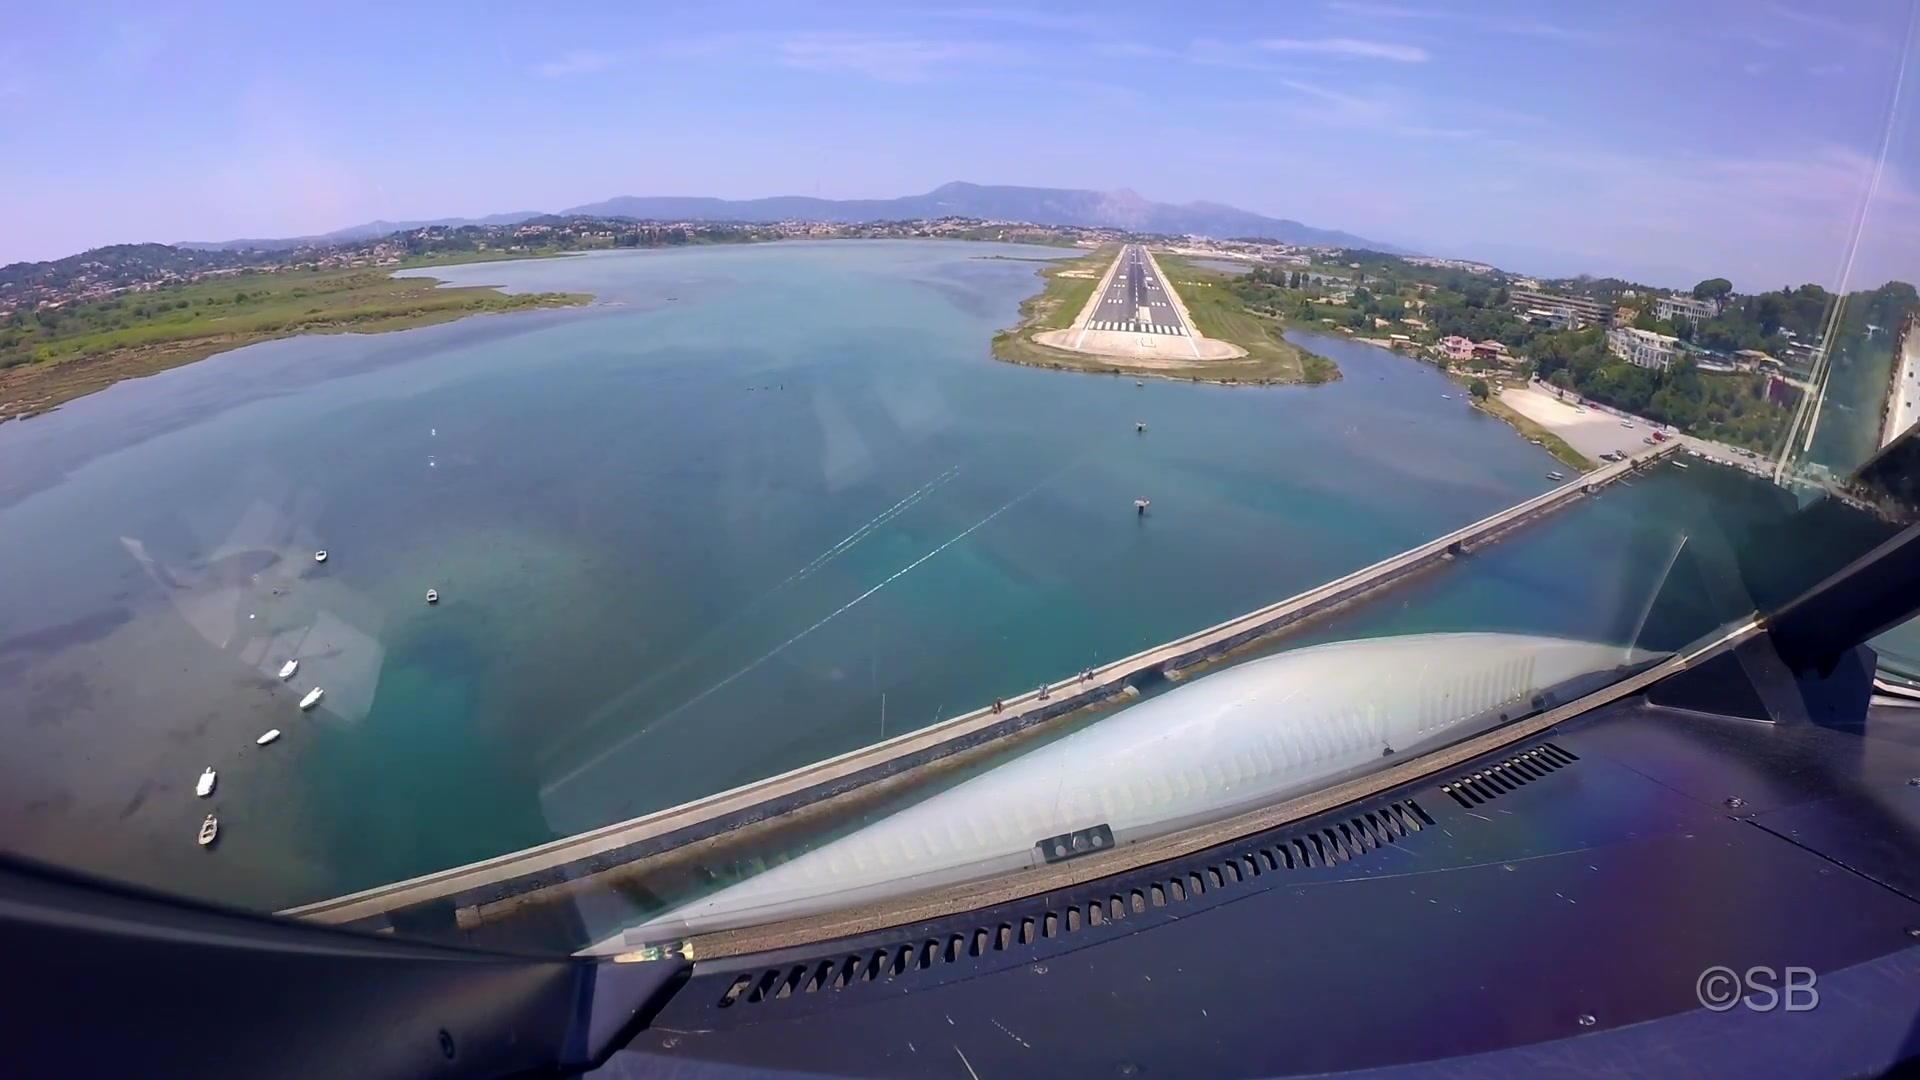entrance: (1087, 320, 1188, 338)
runway: (1081, 247, 1189, 340)
